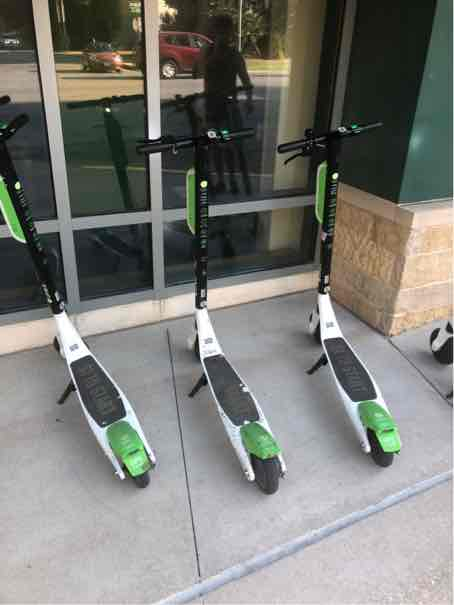scooter: (5, 98, 160, 498), (130, 132, 291, 499), (269, 129, 431, 479)
